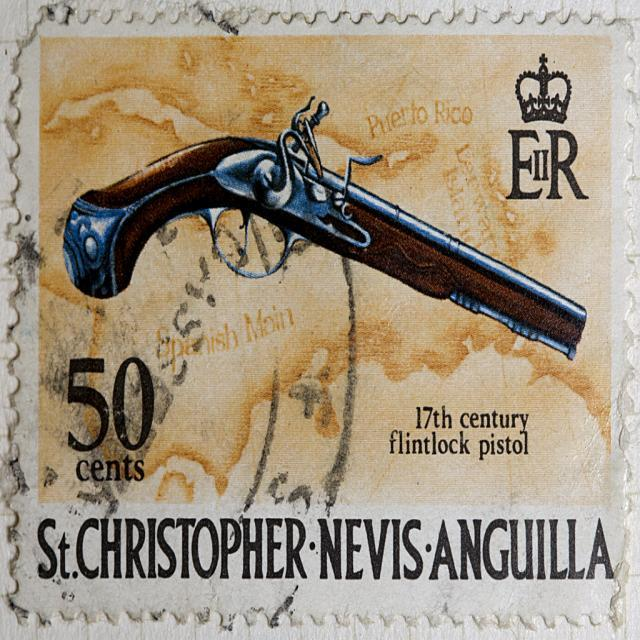Gun: (64, 98, 586, 358)
